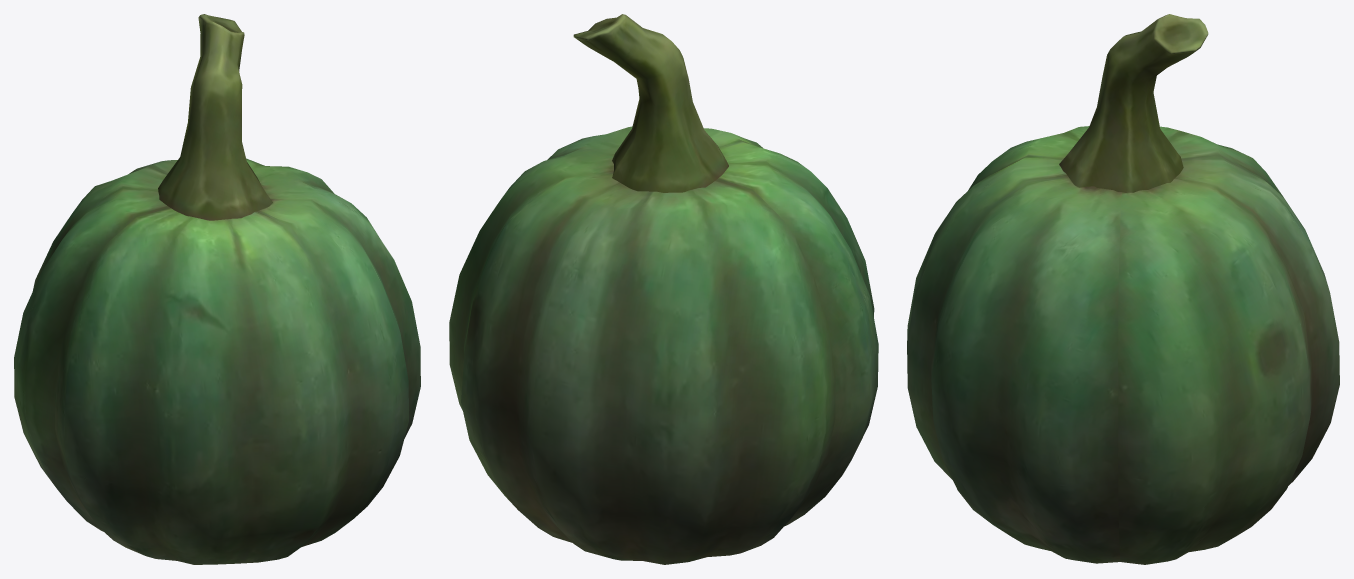
3 views of the same model, side by side, from view 1: azimuth 30°, elevation 25°; view 2: azimuth 150°, elevation 25°; view 3: azimuth 270°, elevation 25° (orthographic). The views are drawn at different scales.
Parts seen in each view (by area): view 1: SM_Melon_NoSway_LOD0; view 2: SM_Melon_NoSway_LOD0; view 3: SM_Melon_NoSway_LOD0.
Boxes of the visible parts, x1,y1,x2,y2 form: SM_Melon_NoSway_LOD0: (14,14,420,564); SM_Melon_NoSway_LOD0: (449,14,878,564); SM_Melon_NoSway_LOD0: (907,14,1339,564).
Bounding box in the file's own units: 0.5367 × 0.7369 × 0.5487.
1 material, 1 textured.
